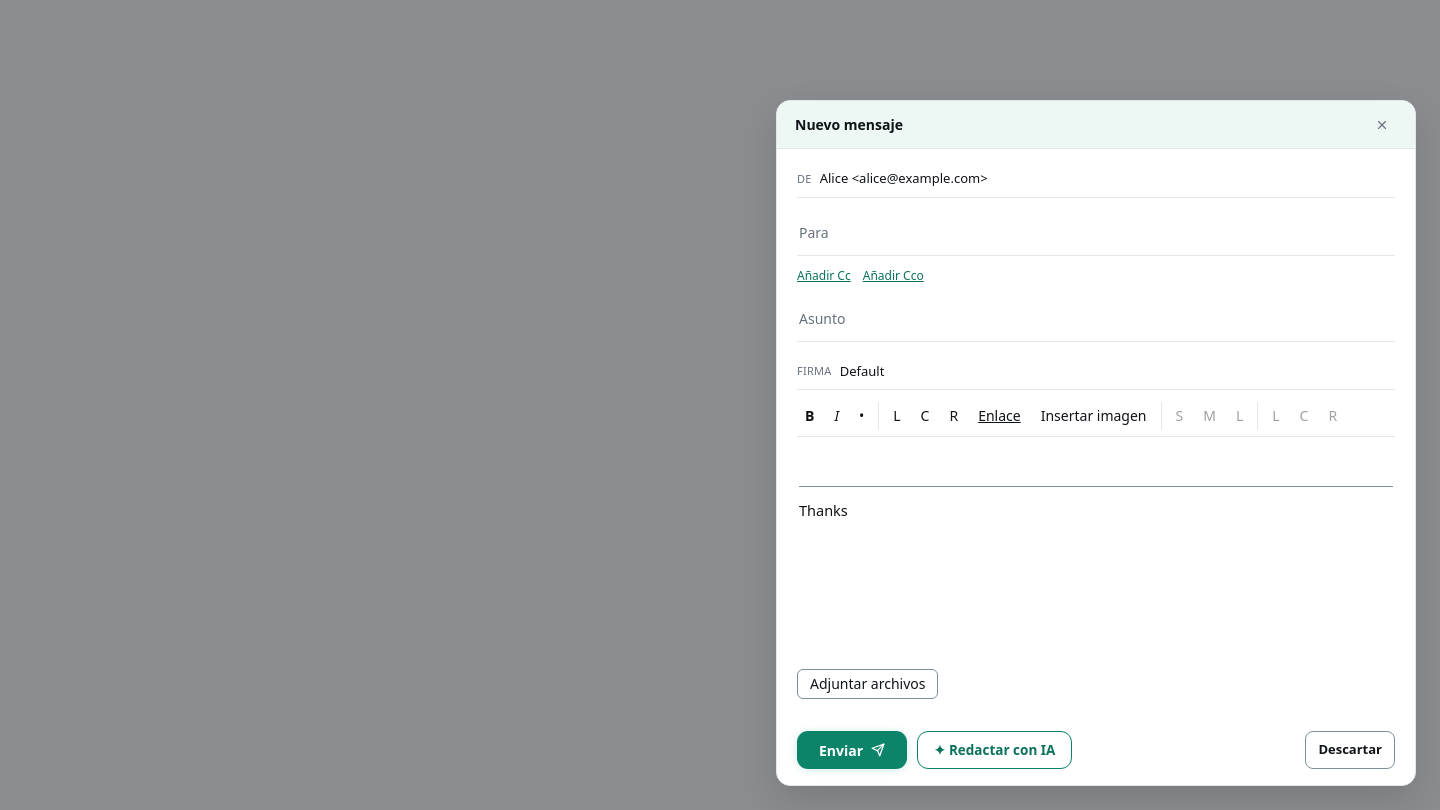
Scenario: Composer › default signature auto-apply and switching › removes the signature entirely when selecting the empty option
Expected: the field named "Mensaje" reads "Thanks", [799, 486, 1393, 522]
Select "Ninguna" in the dropdown labelled "Firma" at (1117, 371), box [840, 358, 1395, 385]
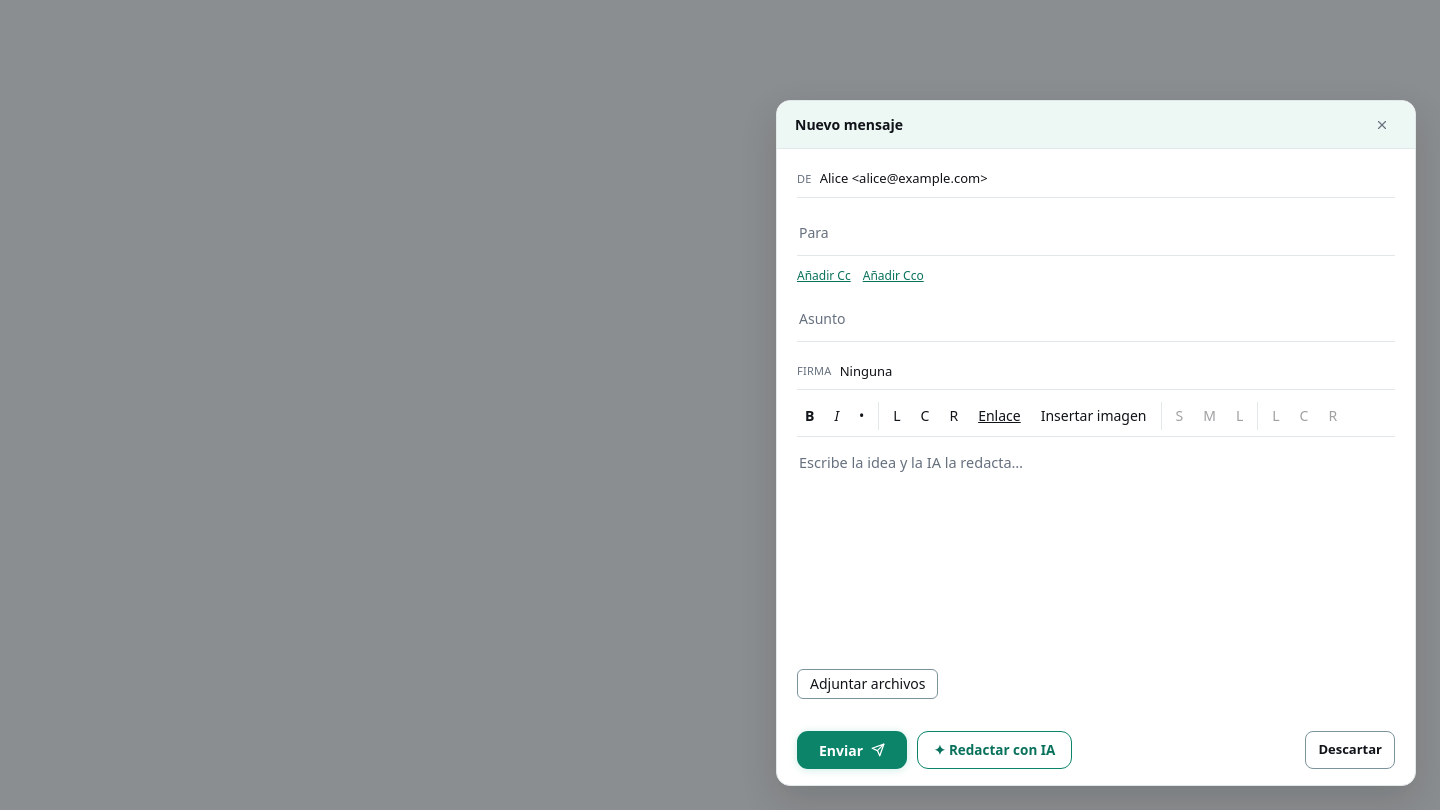
Expected: the text box labelled "Mensaje" no longer shows "Thanks"
